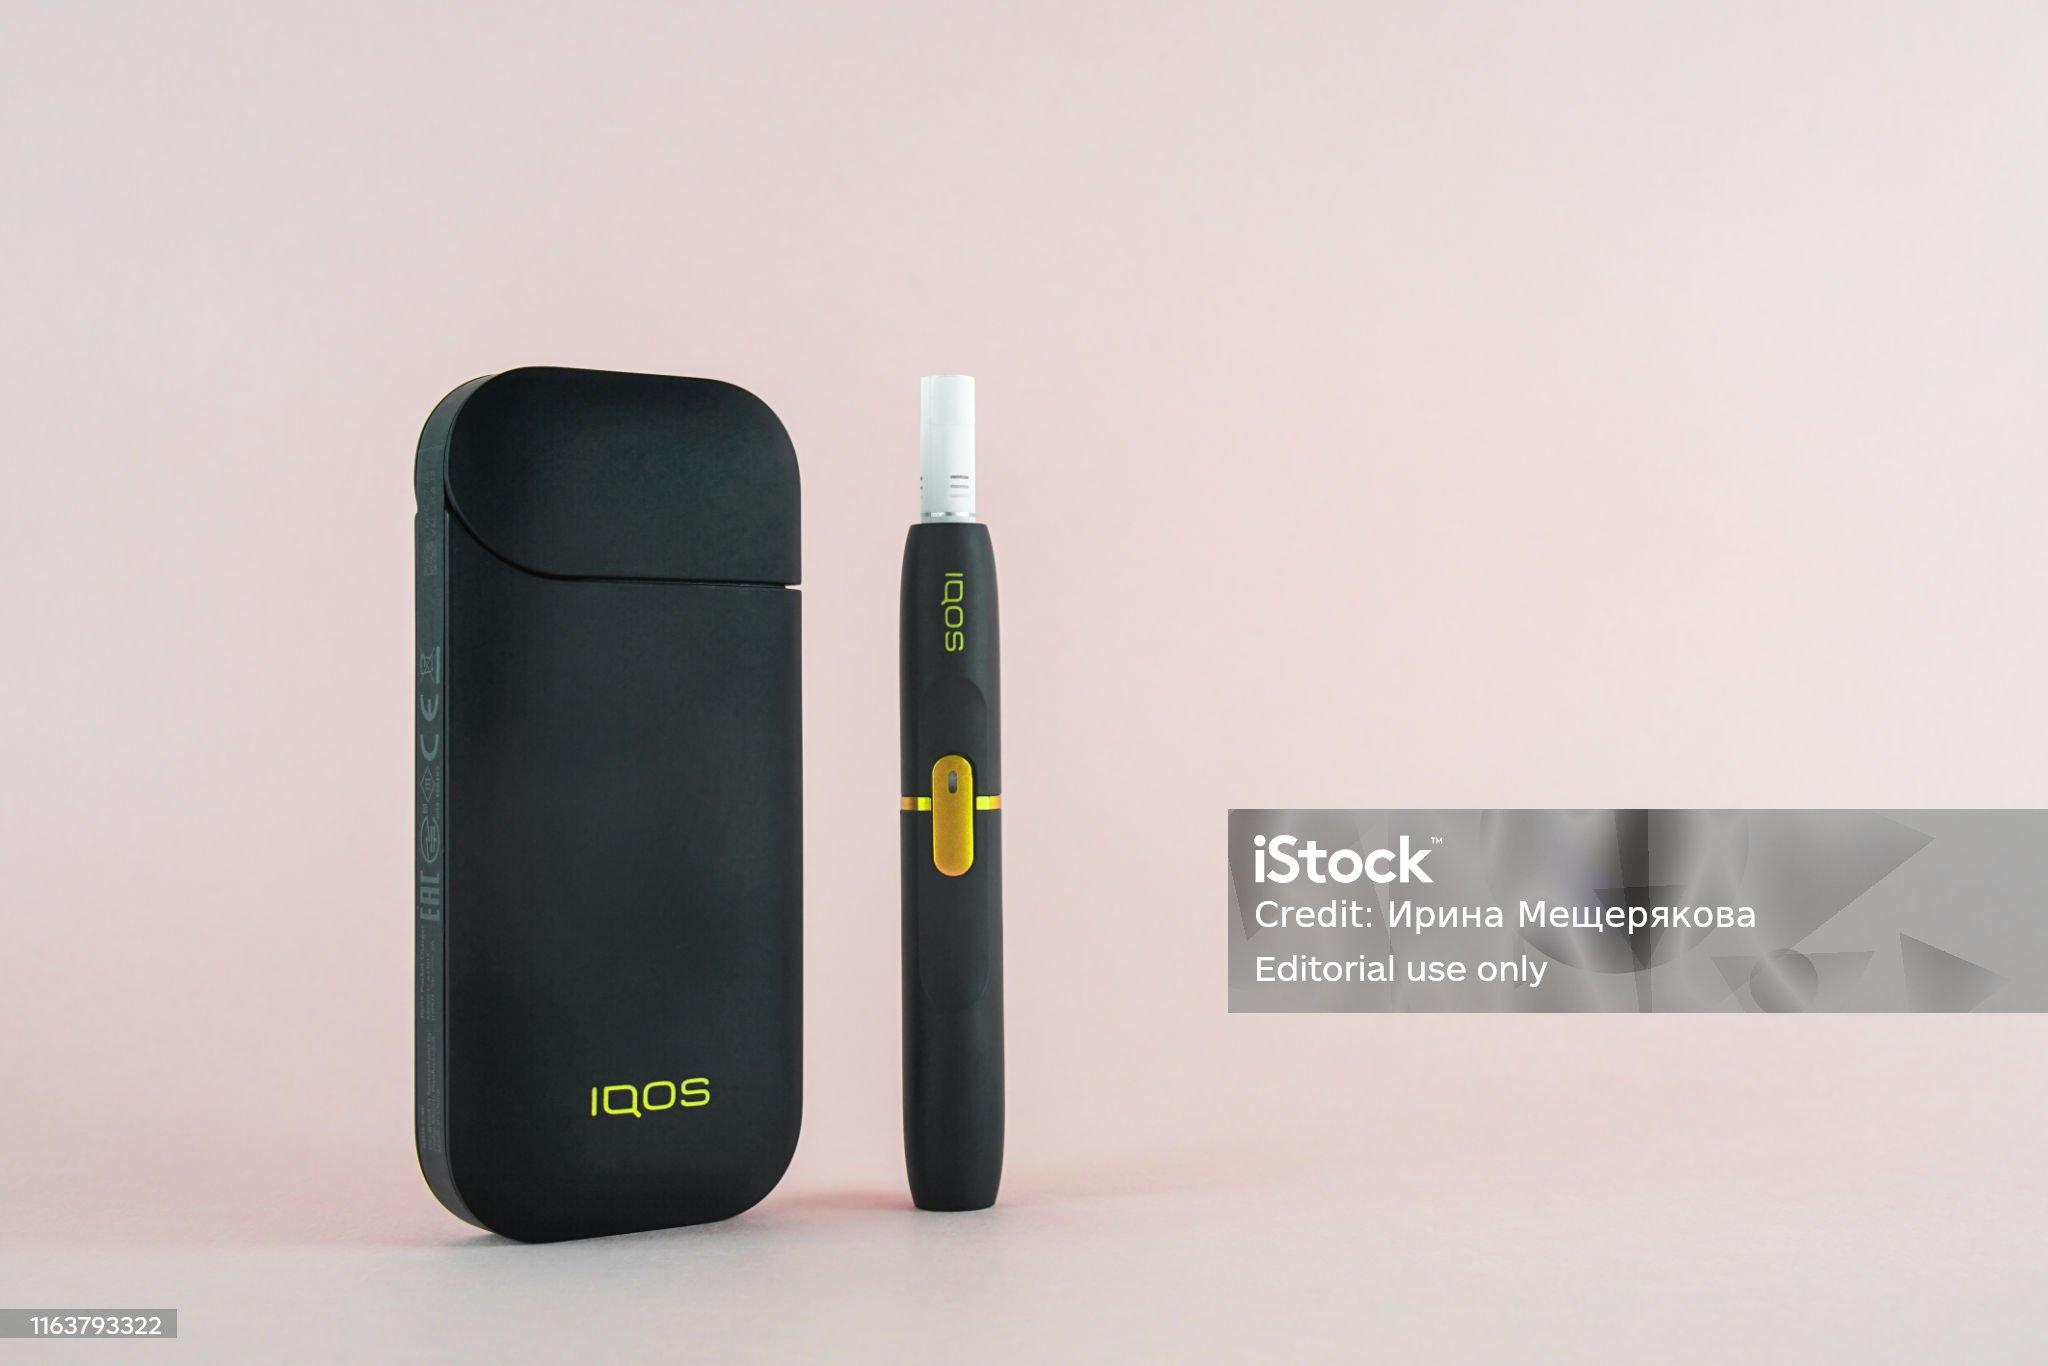iqos: (901, 377, 1003, 1209)
